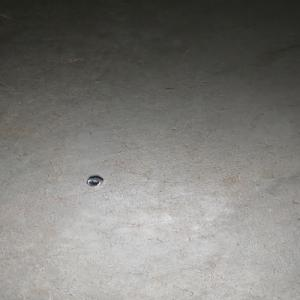Nut: (85, 176, 103, 186)
